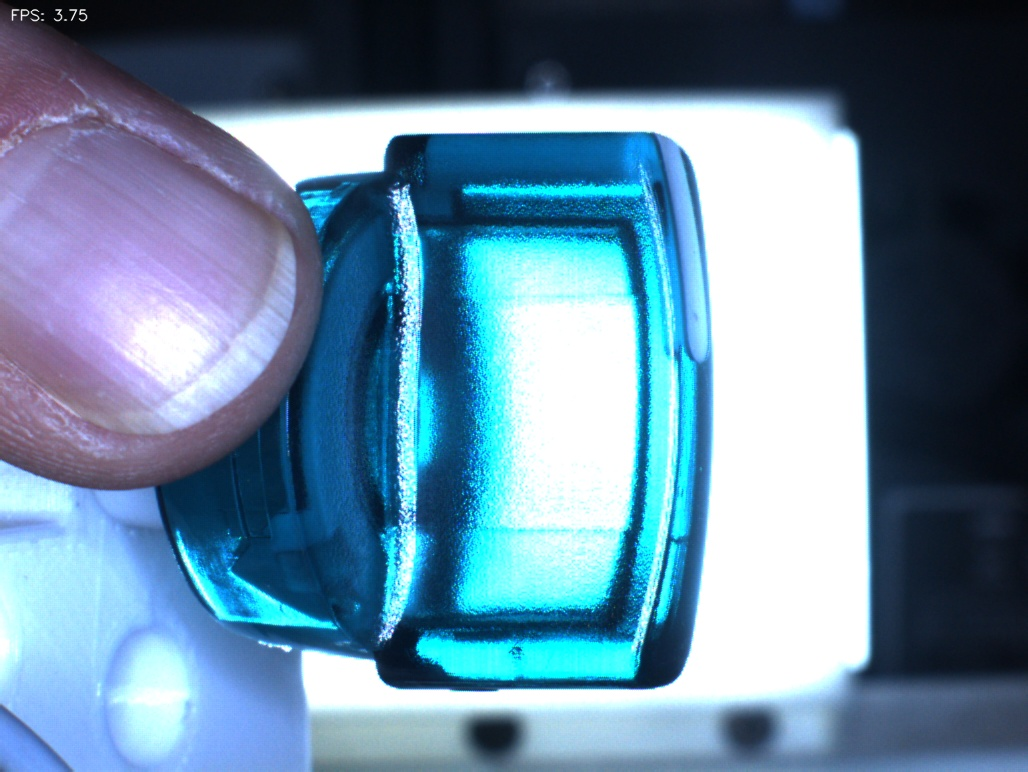Bulle: (481, 630, 556, 690)
